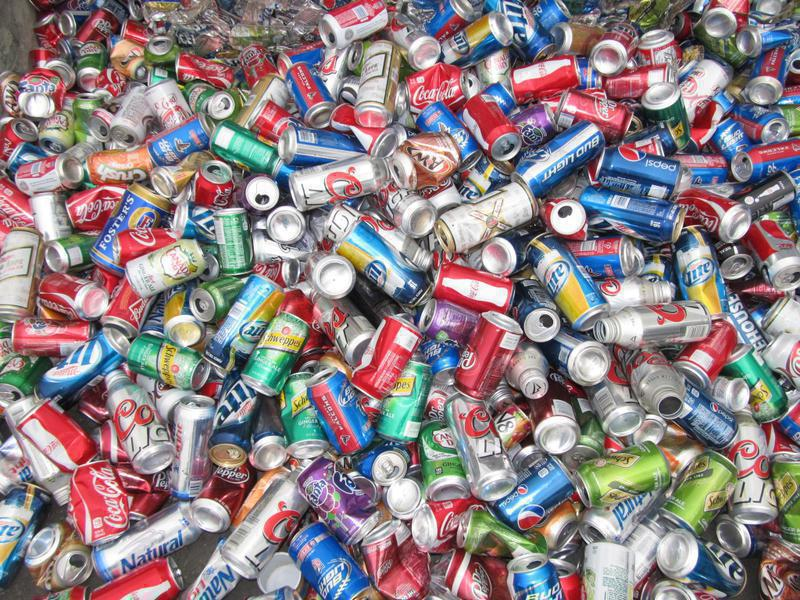can: (217, 474, 313, 582), (441, 393, 522, 505), (433, 178, 537, 257), (286, 516, 380, 600), (658, 449, 744, 538), (570, 437, 673, 509), (236, 310, 314, 402), (304, 365, 378, 460), (451, 307, 525, 402), (348, 313, 422, 405), (589, 139, 692, 203), (60, 458, 133, 545), (592, 298, 715, 349), (283, 151, 388, 210), (122, 237, 210, 303), (124, 328, 213, 393), (345, 40, 405, 128), (434, 7, 517, 67), (459, 91, 523, 163), (6, 312, 97, 361), (143, 109, 217, 167), (507, 50, 584, 105), (282, 58, 339, 131), (13, 153, 86, 194)
